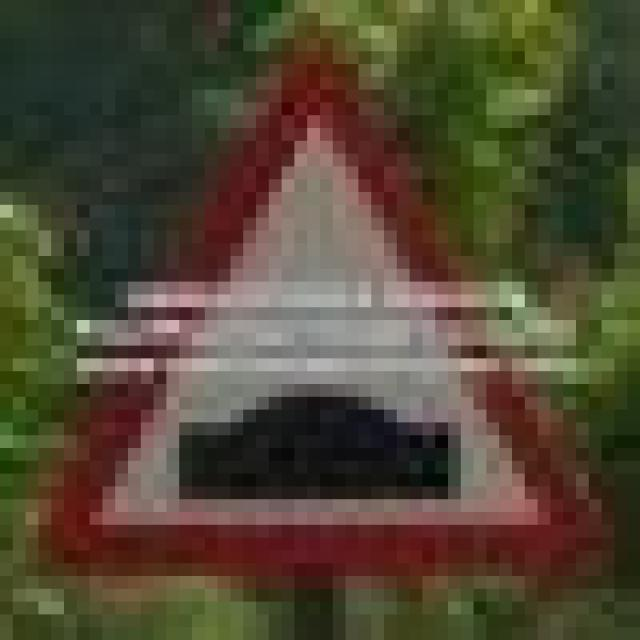horn_prohibited: (38, 51, 589, 563)
